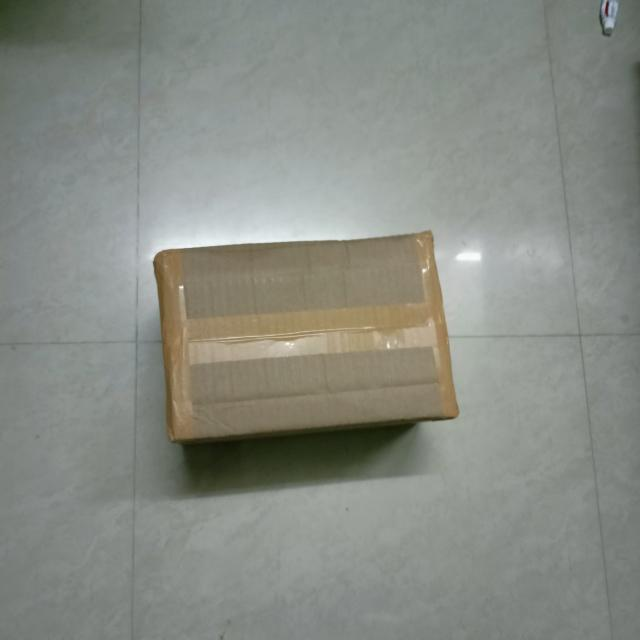box: (160, 234, 461, 439)
